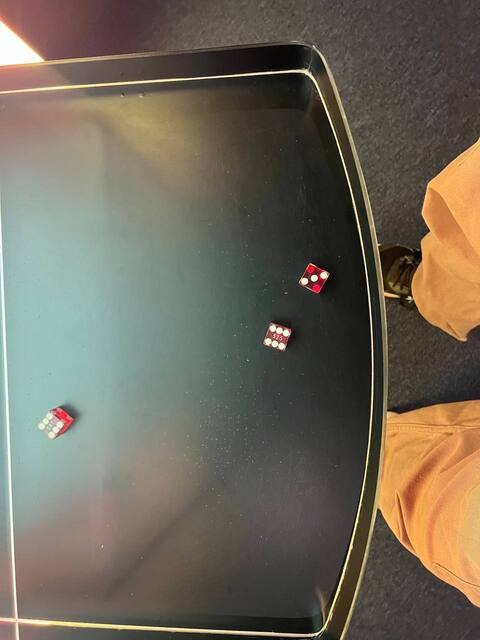six: (34, 408, 67, 442), (259, 320, 292, 353)
three: (296, 261, 331, 296)
